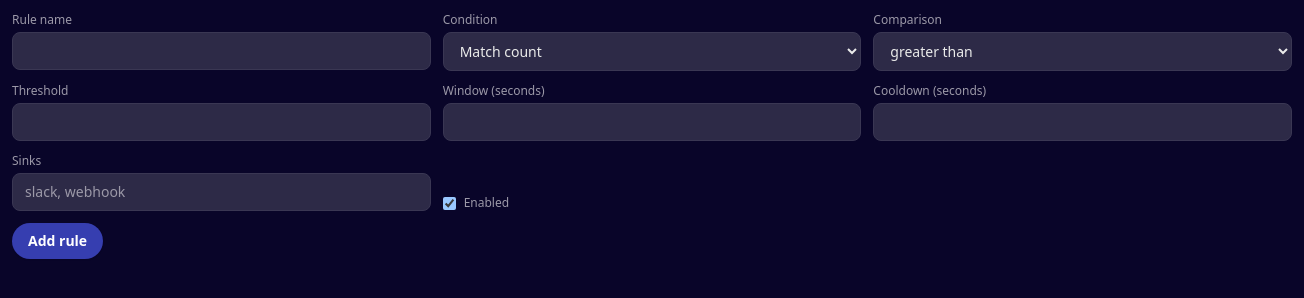
AlertRuleForm › requires a stuck age when the condition is stuck_count
In the field labelled "Rule name": (221, 51) top-left (12, 32), bottom-right (431, 70), type "stuck"
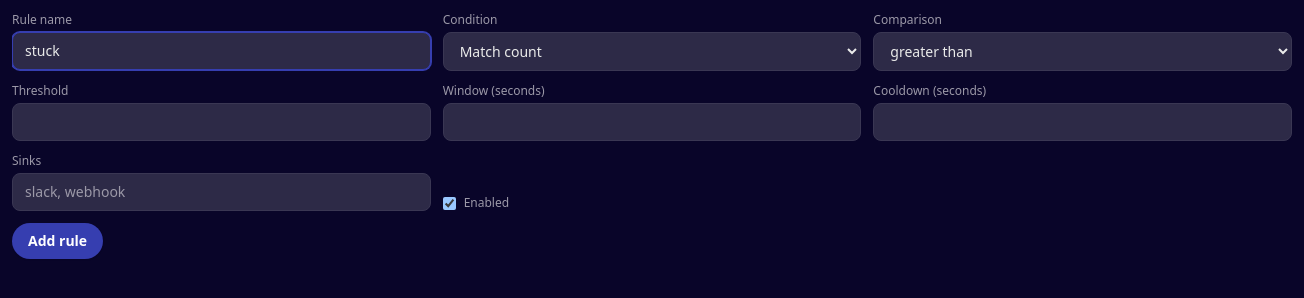
Select "Stuck count" in the dropdown labelled "Condition": (652, 52) top-left (443, 32), bottom-right (861, 71)
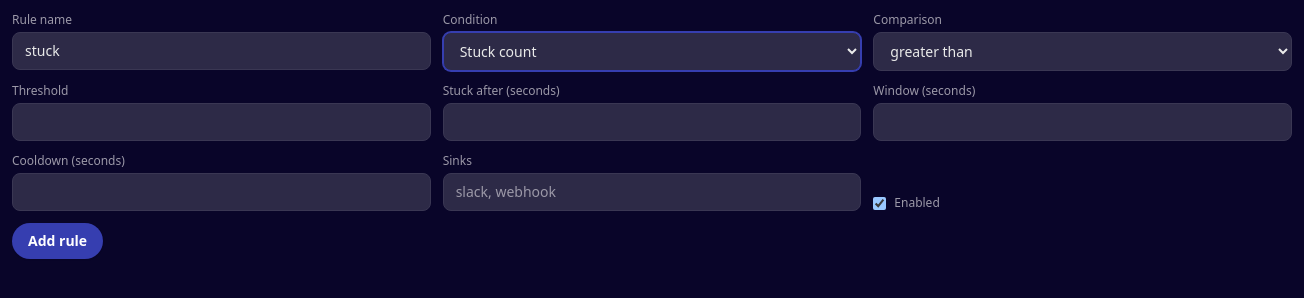
In the number field labelled "Threshold": (221, 122) top-left (12, 103), bottom-right (431, 141), type "5"
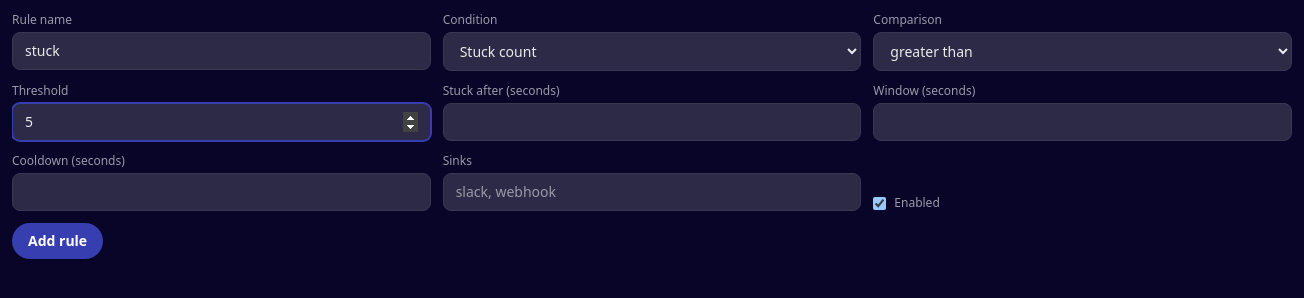
In the number field labelled "Window (seconds)": (1083, 122) top-left (873, 103), bottom-right (1292, 141), type "300"
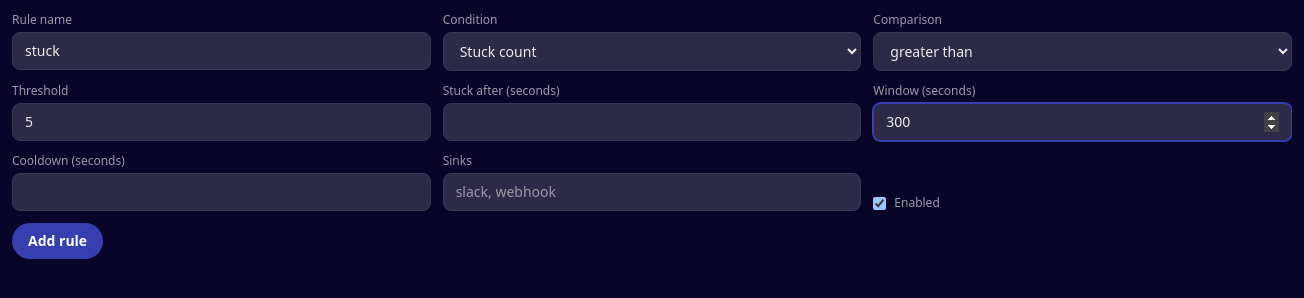
In the number field labelled "Cooldown (seconds)": (221, 192) top-left (12, 173), bottom-right (431, 211), type "600"
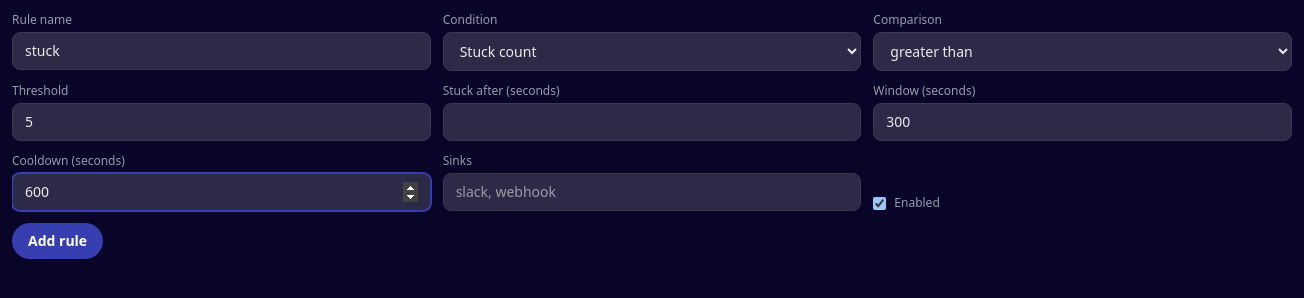
Click the button "Add rule": (58, 241) top-left (12, 223), bottom-right (103, 259)
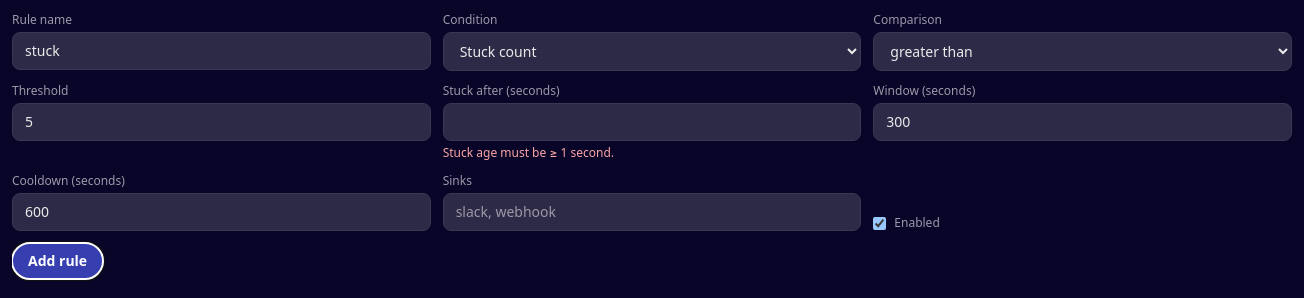
Result: the text "Stuck age must be ≥ 1 second." is shown at top-left (443, 144), bottom-right (614, 161)
